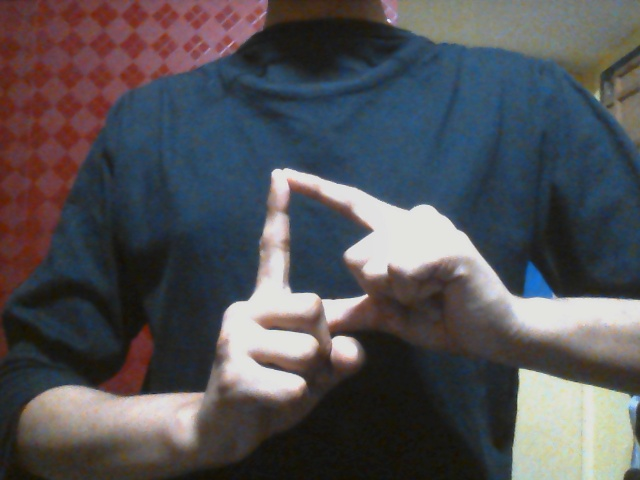D: (204, 166, 505, 463)
